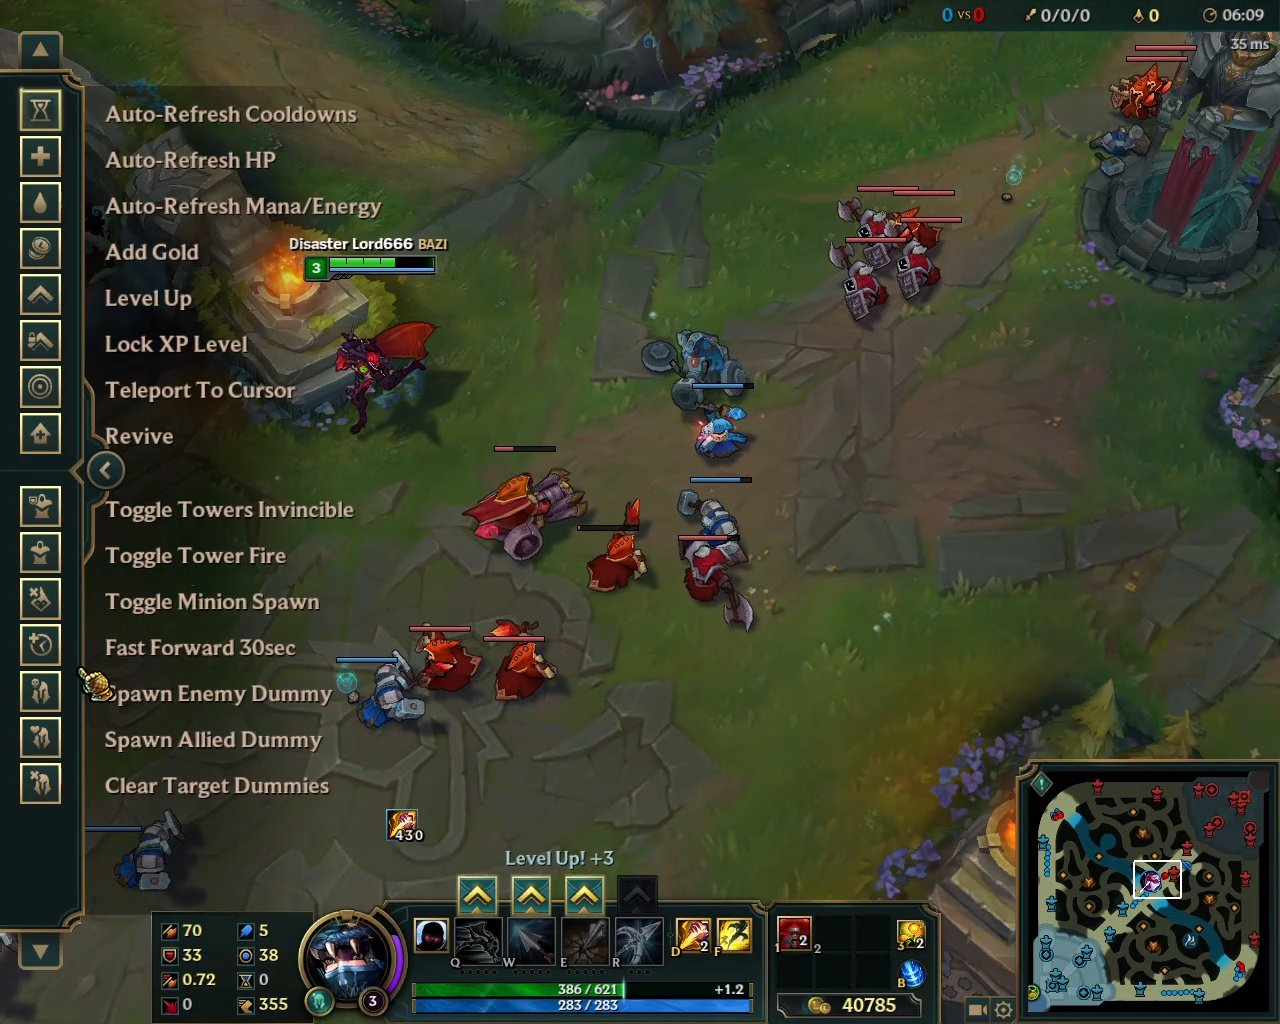EnemyMinion: (458, 441, 587, 569), (669, 533, 759, 635), (571, 498, 654, 600), (484, 614, 565, 705), (822, 236, 908, 320), (842, 183, 923, 261), (405, 616, 485, 695), (888, 217, 960, 298)
Tower: (1081, 26, 1280, 284)
Vayne: (327, 311, 453, 439)
